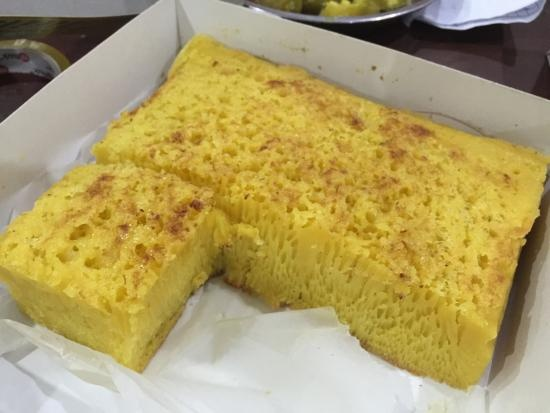bika_ambon: (220, 174, 490, 394), (3, 160, 208, 369)
